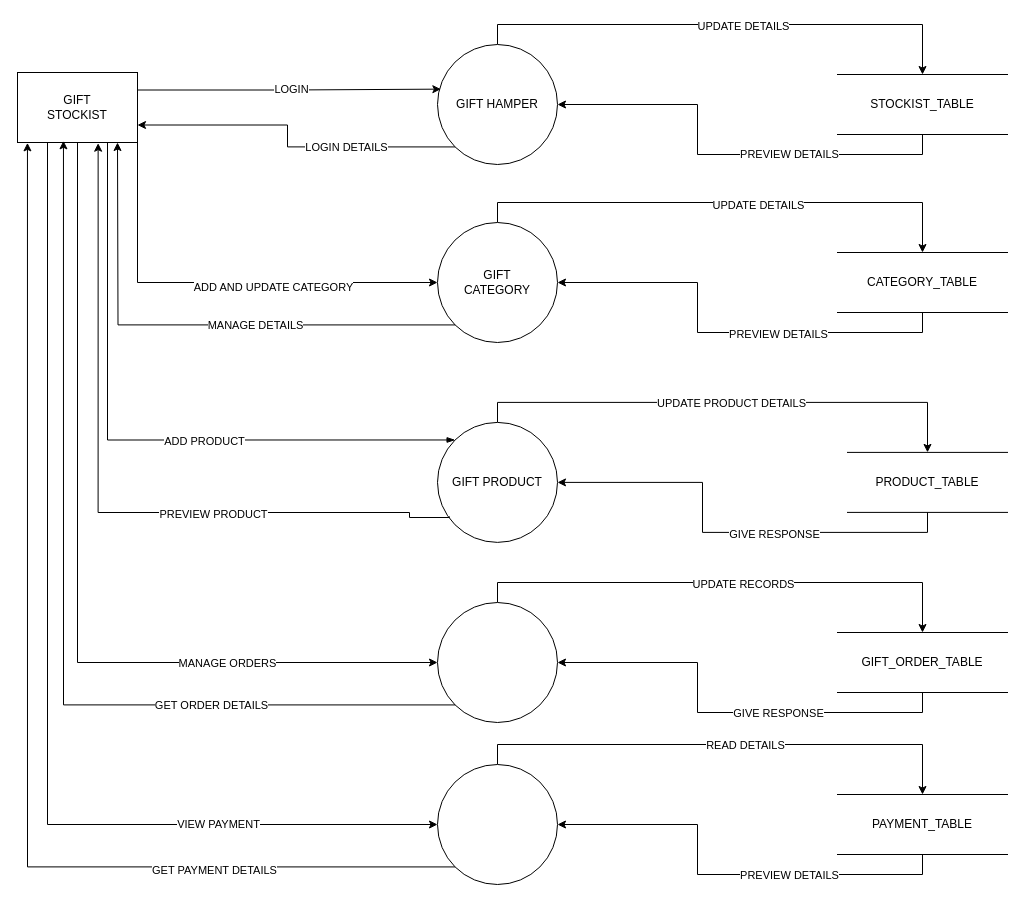
The diagram is 1025 pixels wide and 902 high, and some of its shapes have lost their labels. The centre of each missing label's shape, as x and y in pixels:
ORDERS: the point at 497,662
PAYMENT: the point at 497,824
